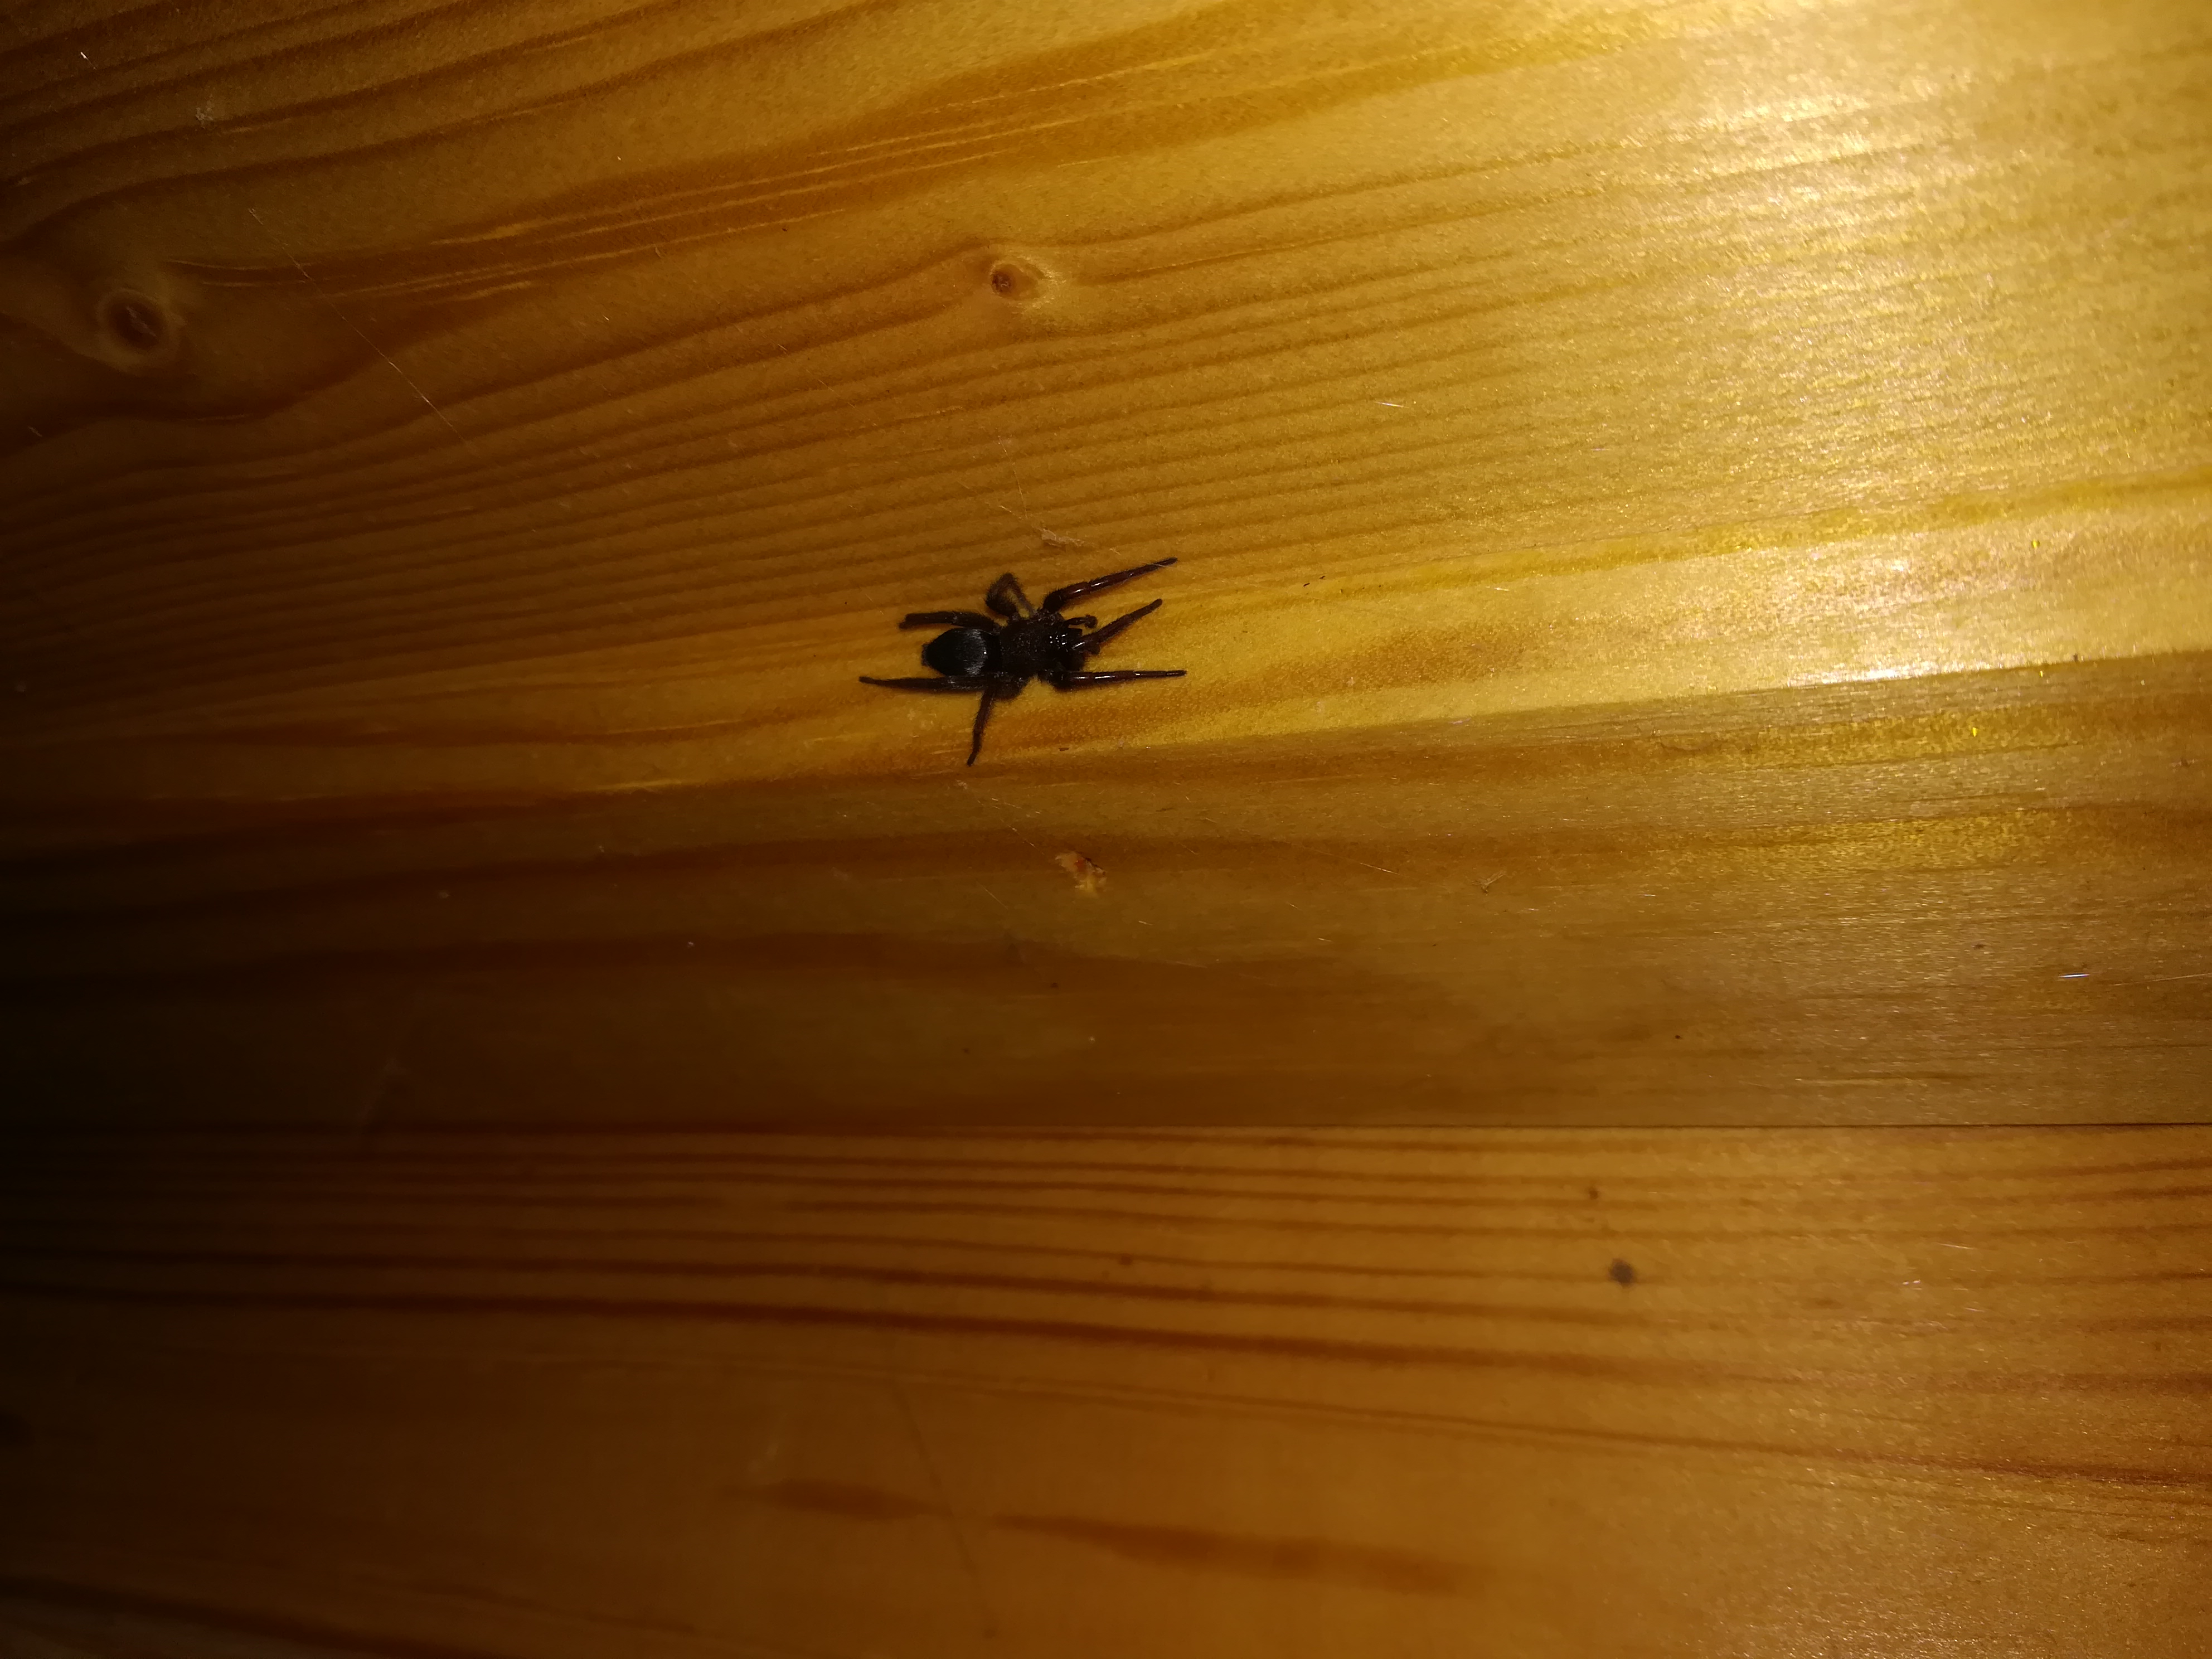spider: (833, 500, 1238, 791)
